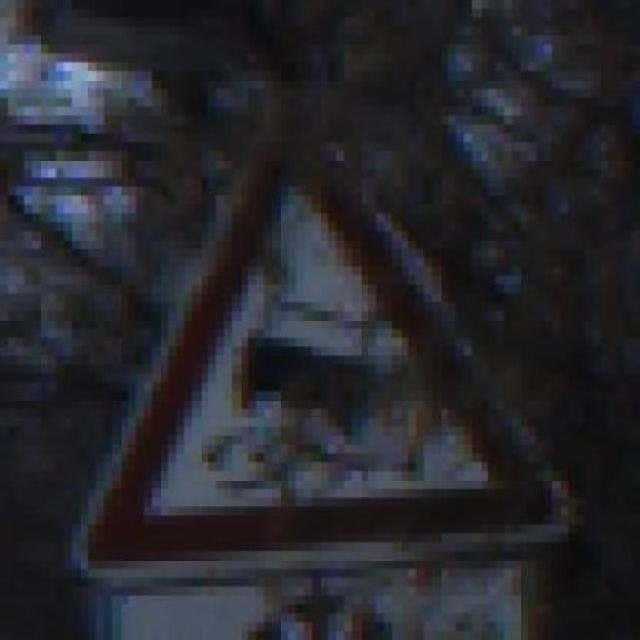Slippery Road Ahead: (64, 98, 591, 587)
